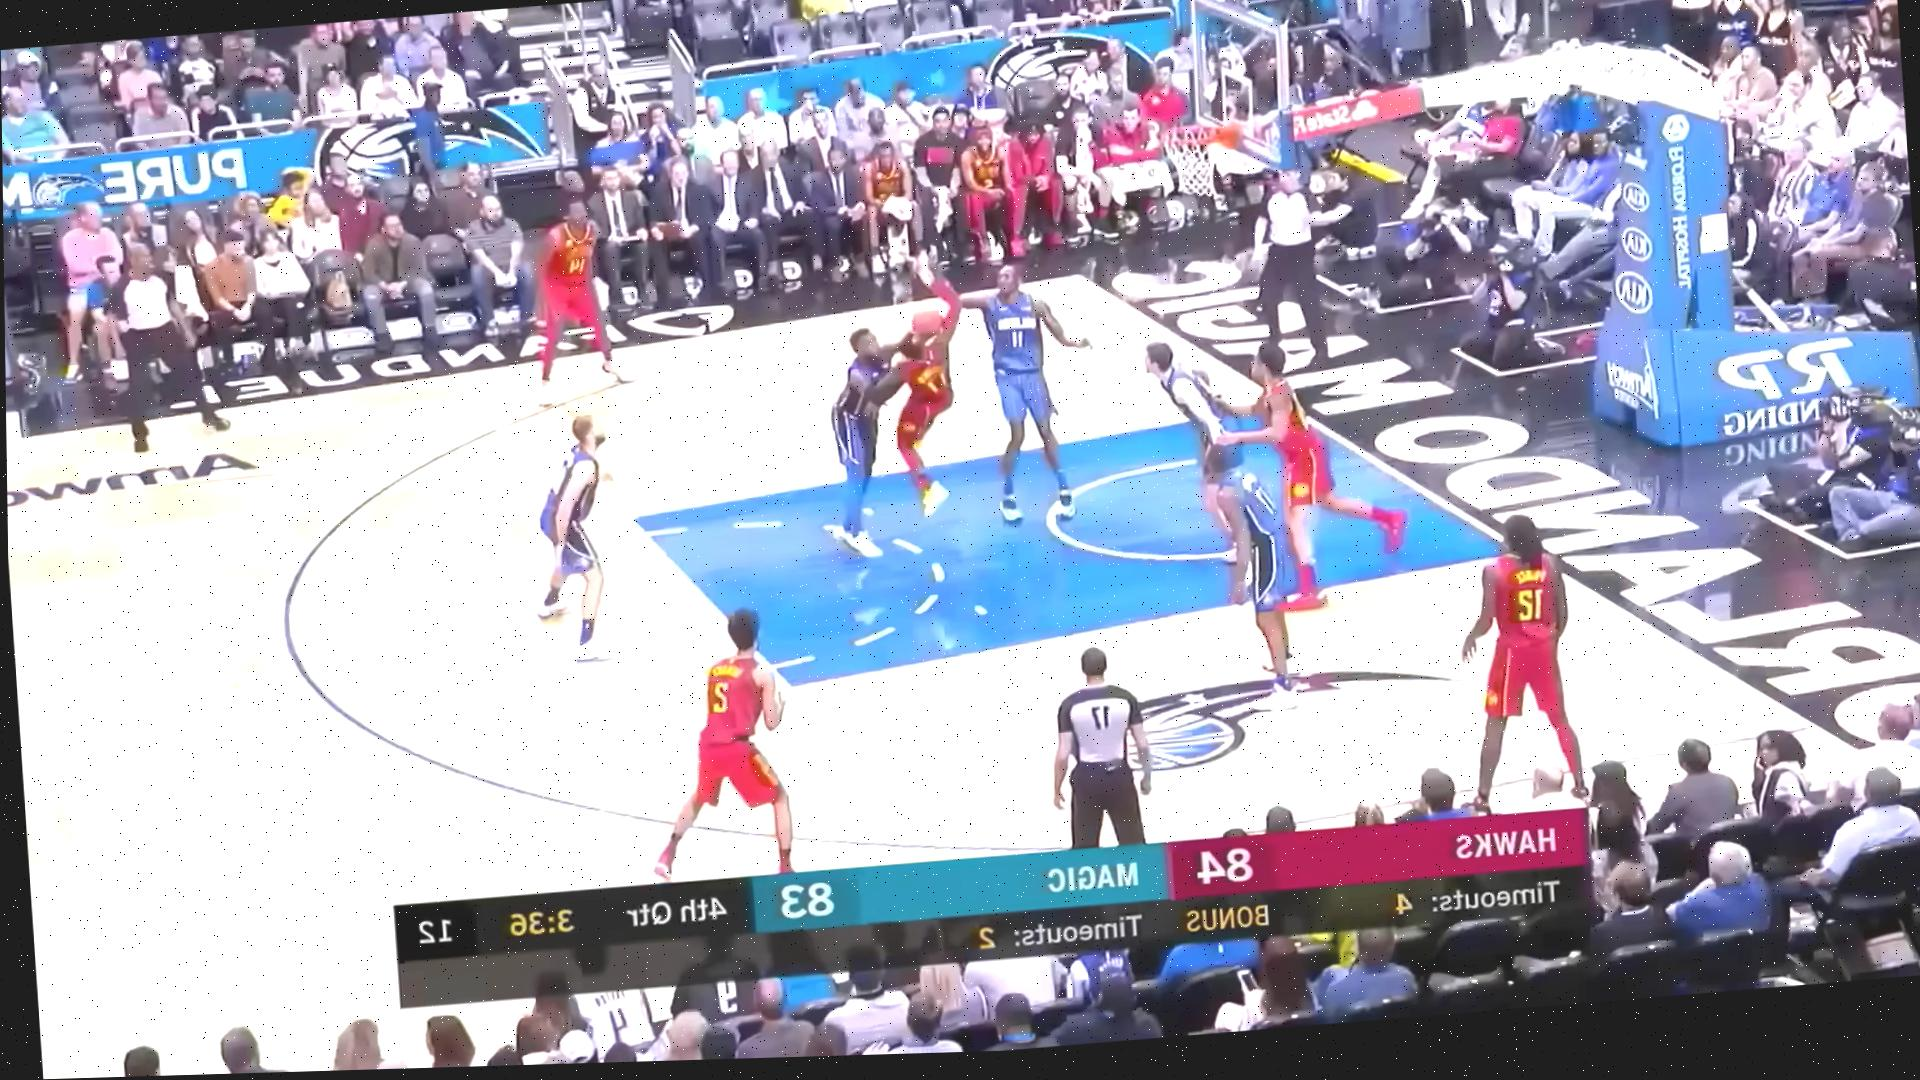foul: (795, 231, 1009, 562)
